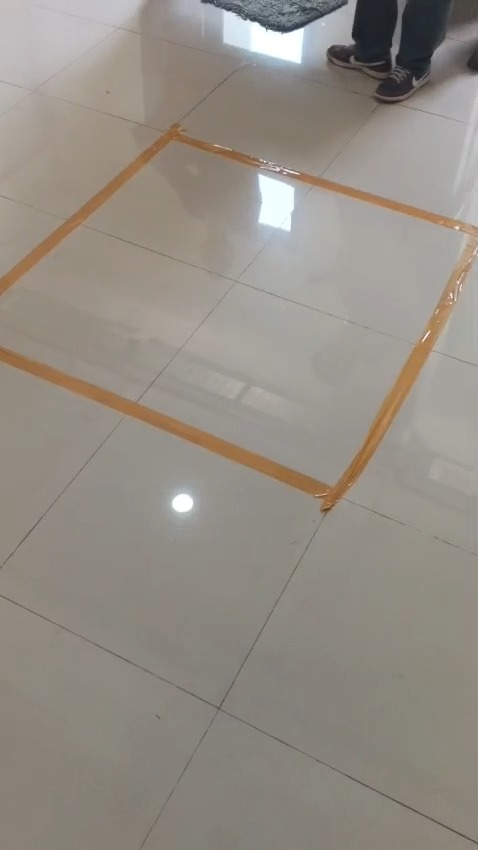floor marking: (0, 124, 477, 511)
